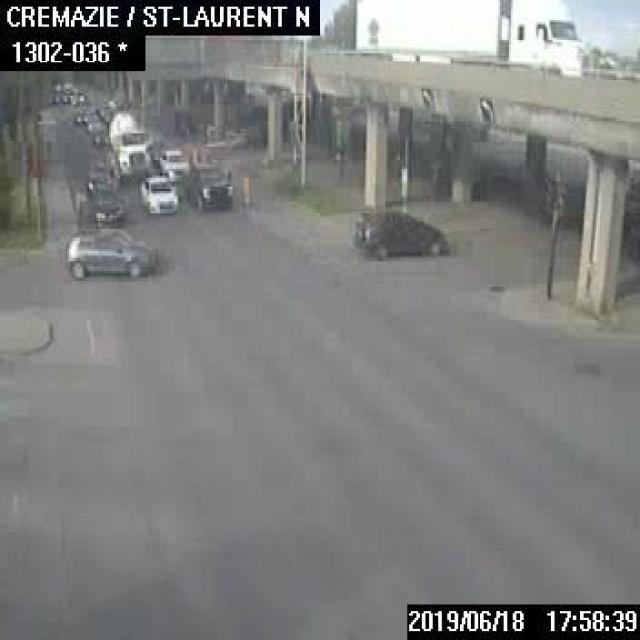construction: (240, 169, 249, 204), (222, 151, 229, 176)
vehicle: (351, 0, 589, 76), (351, 209, 445, 258), (65, 229, 155, 277), (104, 110, 155, 178), (81, 178, 127, 226), (186, 162, 233, 205), (138, 170, 180, 212), (157, 147, 186, 173), (85, 113, 101, 132), (91, 128, 107, 144), (72, 107, 86, 124)
